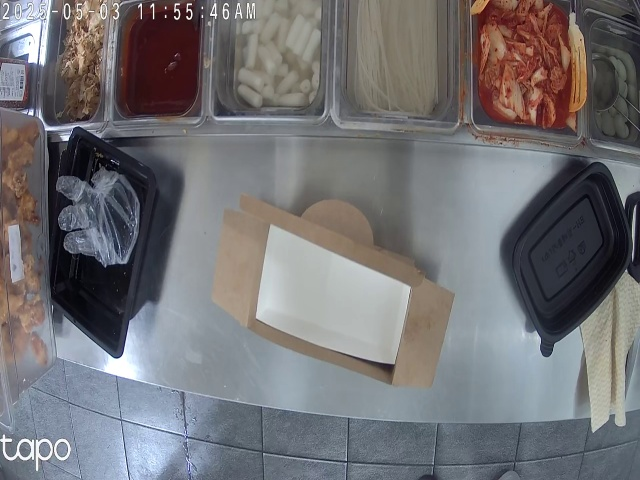delivery box: (228, 193, 448, 383)
